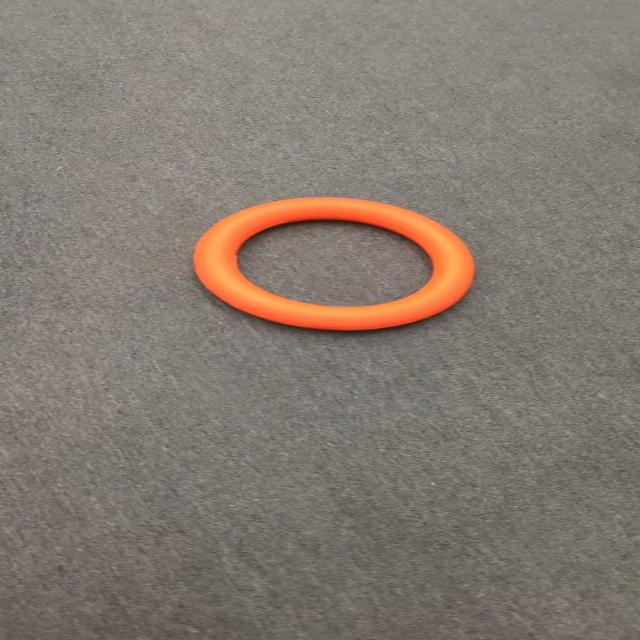note: (202, 195, 481, 329)
